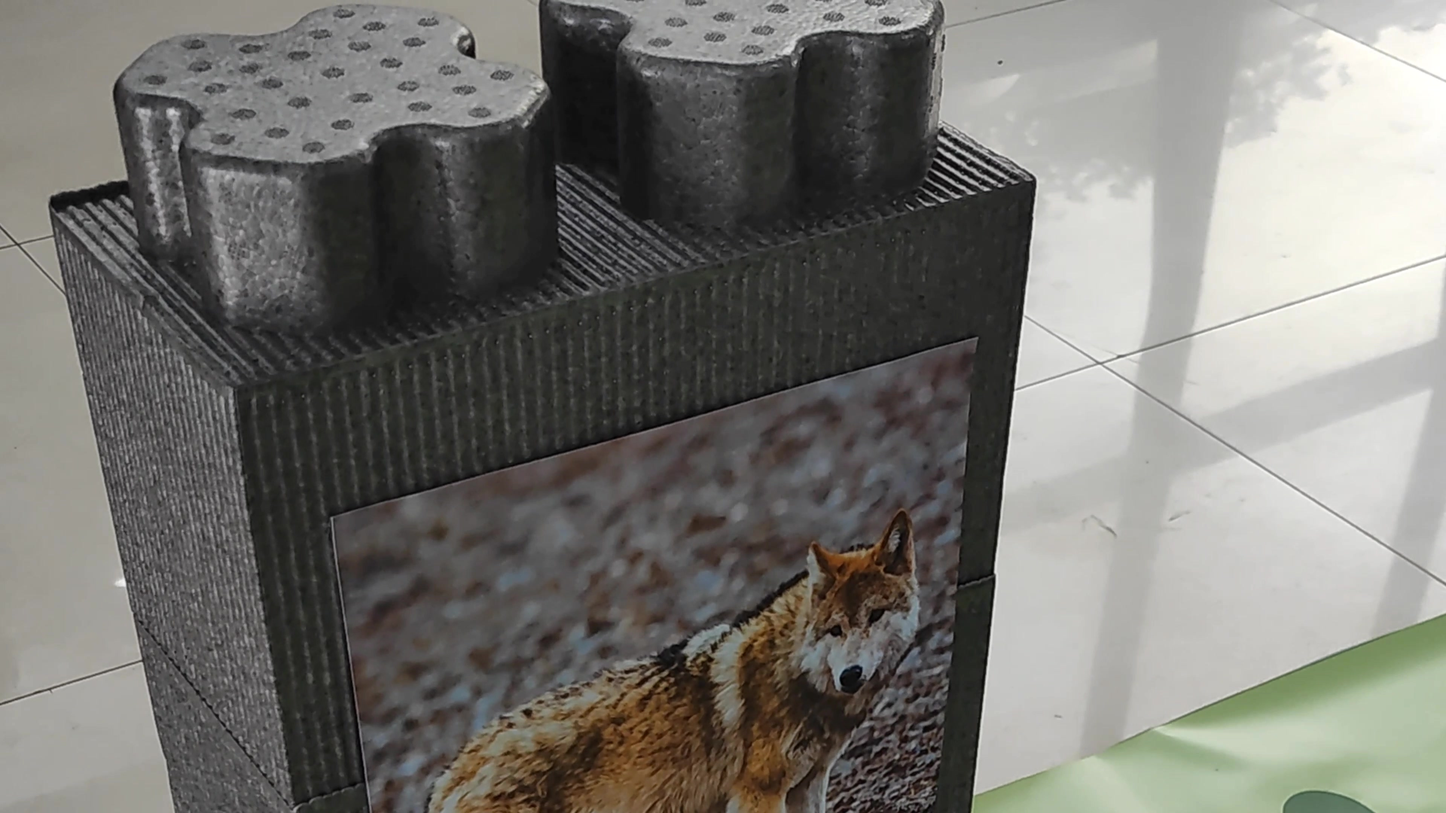wolf: (403, 454, 959, 813)
